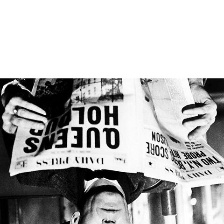news_paper: (7, 76, 224, 189)
